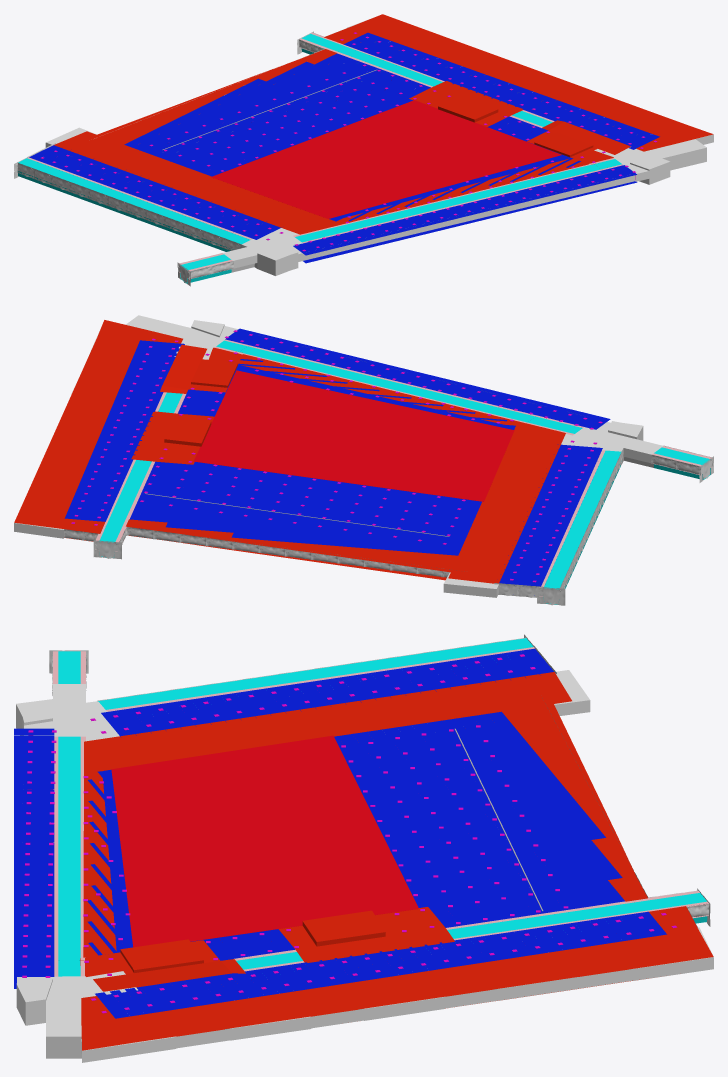
File: New Layout.fbx
3 views of the same model, one above another, from view 1: azimuth 30°, elevation 25°; view 2: azimuth 150°, elevation 25°; view 3: azimuth 270°, elevation 25° (orthographic). The views are drawn at different scales.
Visible parts, largest first — view 1: Plane.007, Plane.003, Plane, Plane.004, Plane.006, Cube.011, Cube.010, Plane.002, Plane.005, Plane.001; view 2: Plane.007, Plane.003, Plane, Plane.004, Plane.006, Plane.002, Cube.010, Plane.001, Cube.011, Cube, Cube.009, Stope Face_low.037 (+1 smaller); view 3: Plane.007, Plane.003, Plane, Plane.006, Plane.004, Plane.002, Cube.011, Plane.001, Cube.012, Cube.010, Cube.005, Cube.009 (+3 smaller).
Boxes of the visible parts, x1=… form: Plane.007: x1=211, y1=100, x2=561, y2=218; Plane.003: x1=324, y1=14, x2=713, y2=151; Plane: x1=54, y1=131, x2=342, y2=234; Plane.004: x1=97, y1=49, x2=336, y2=144; Plane.006: x1=409, y1=81, x2=523, y2=126; Cube.011: x1=594, y1=139, x2=706, y2=184; Cube.010: x1=223, y1=228, x2=303, y2=275; Plane.002: x1=527, y1=120, x2=630, y2=164; Plane.005: x1=304, y1=175, x2=635, y2=260; Plane.001: x1=336, y1=158, x2=588, y2=223; Plane.007: x1=193, y1=370, x2=514, y2=501; Plane.003: x1=14, y1=320, x2=182, y2=541; Plane: x1=448, y1=421, x2=565, y2=583; Plane.004: x1=126, y1=519, x2=457, y2=580; Plane.006: x1=131, y1=411, x2=214, y2=464; Plane.002: x1=160, y1=344, x2=242, y2=393; Cube.010: x1=561, y1=421, x2=663, y2=467; Plane.001: x1=239, y1=354, x2=517, y2=425; Cube.011: x1=126, y1=315, x2=237, y2=359; Cube: x1=443, y1=572, x2=498, y2=597; Cube.009: x1=14, y1=522, x2=64, y2=538; Stope Face_low.037: x1=93, y1=540, x2=121, y2=559; Plane.007: x1=111, y1=735, x2=418, y2=947; Plane.003: x1=81, y1=906, x2=713, y2=1050; Plane: x1=84, y1=672, x2=571, y2=773; Plane.006: x1=278, y1=907, x2=454, y2=962; Plane.004: x1=502, y1=704, x2=647, y2=901; Plane.002: x1=80, y1=939, x2=245, y2=991; Cube.011: x1=16, y1=971, x2=137, y2=1058; Plane.001: x1=83, y1=771, x2=116, y2=957; Cube.012: x1=176, y1=969, x2=632, y2=1048; Cube.010: x1=16, y1=684, x2=119, y2=741; Cube.005: x1=81, y1=1036, x2=176, y2=1062; Cube.009: x1=631, y1=927, x2=713, y2=980.
Bounding box in the file's own units: 6989 × 214 × 4972.
